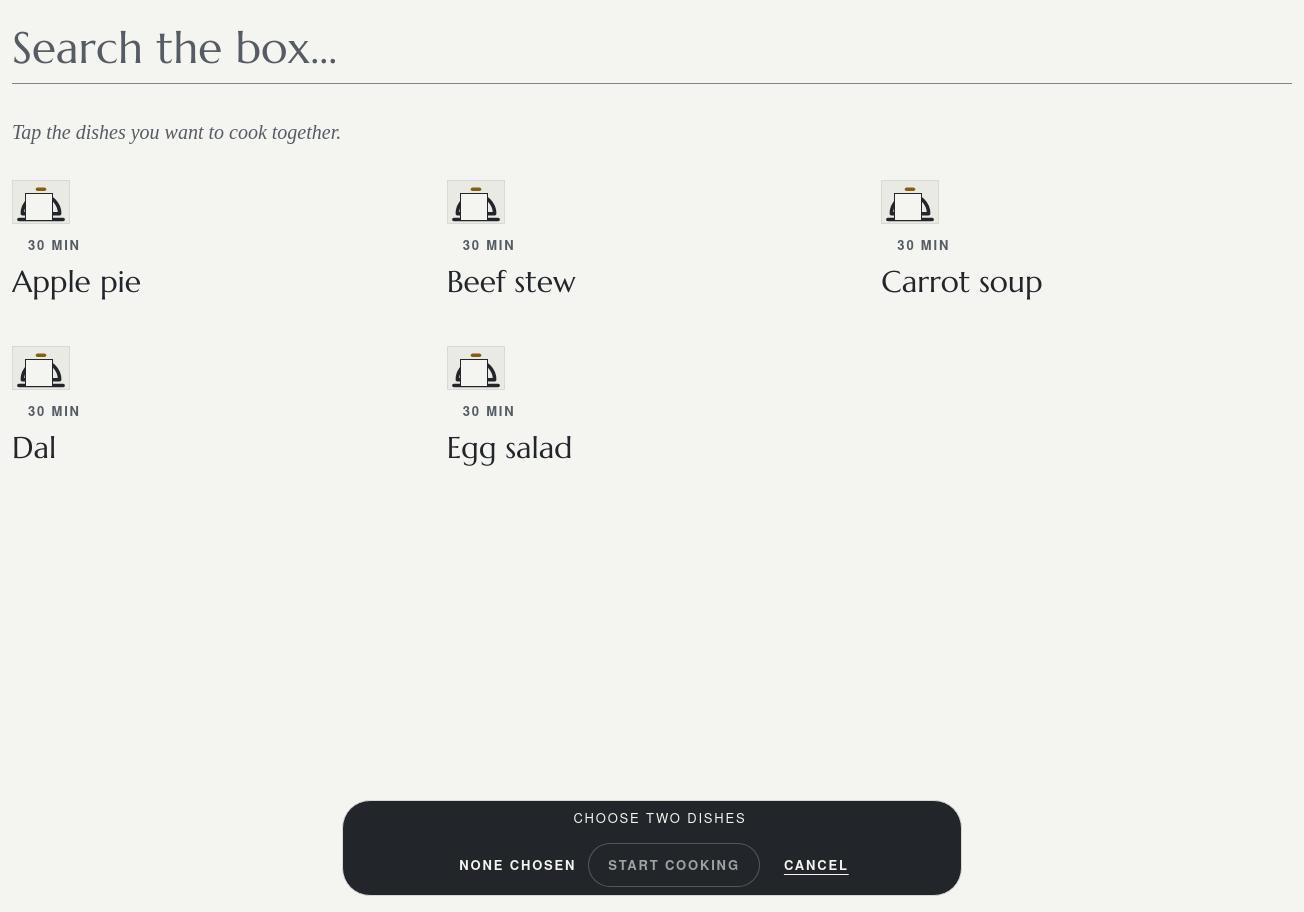
DishPicker search › says when nothing matches
Type "xyz" into the search field named "Search recipes" at {"x": 652, "y": 48}, box [12,12,1292,84]
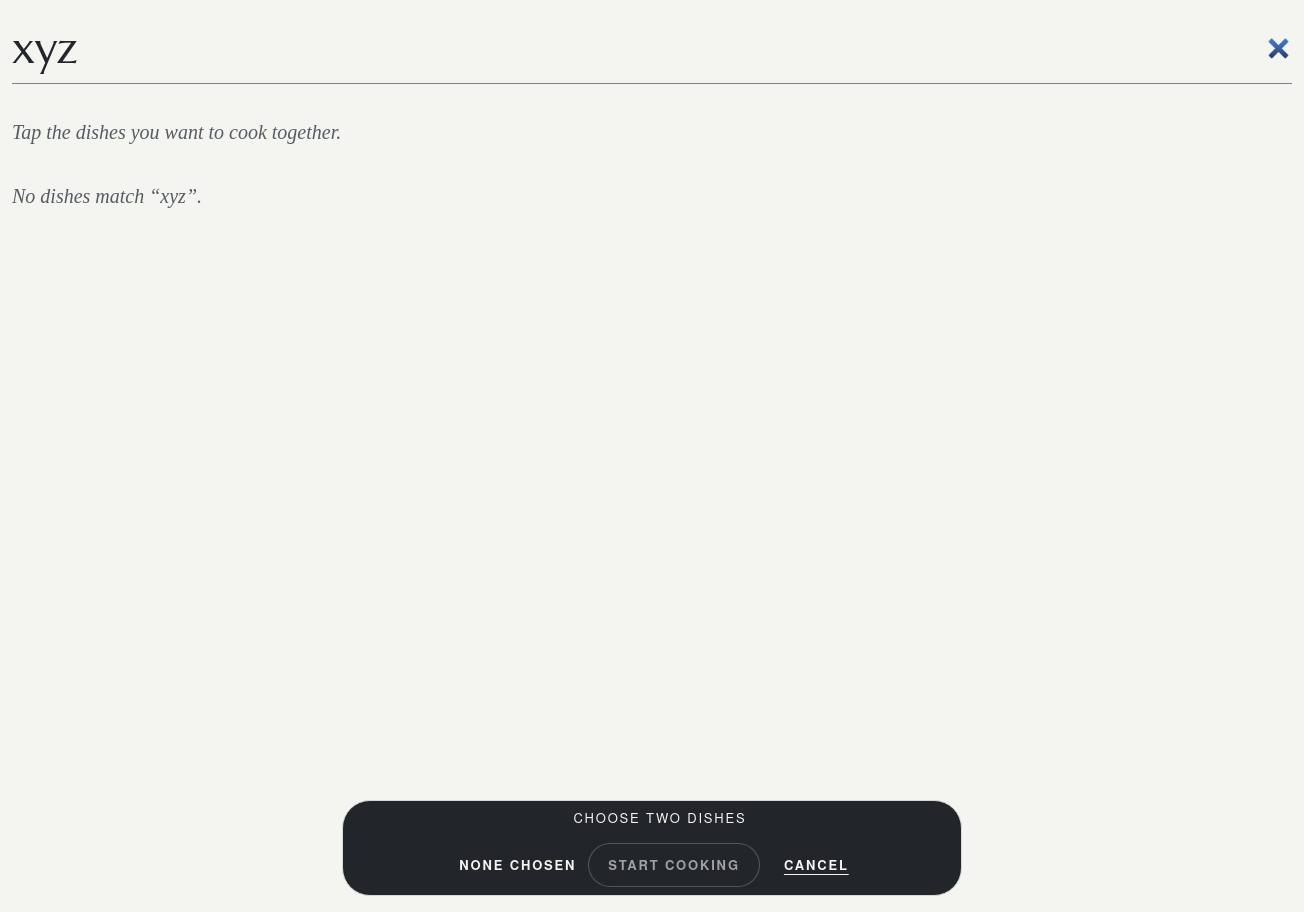
expect the text "No dishes match “xyz”." is shown: met, box [12,185,202,207]
